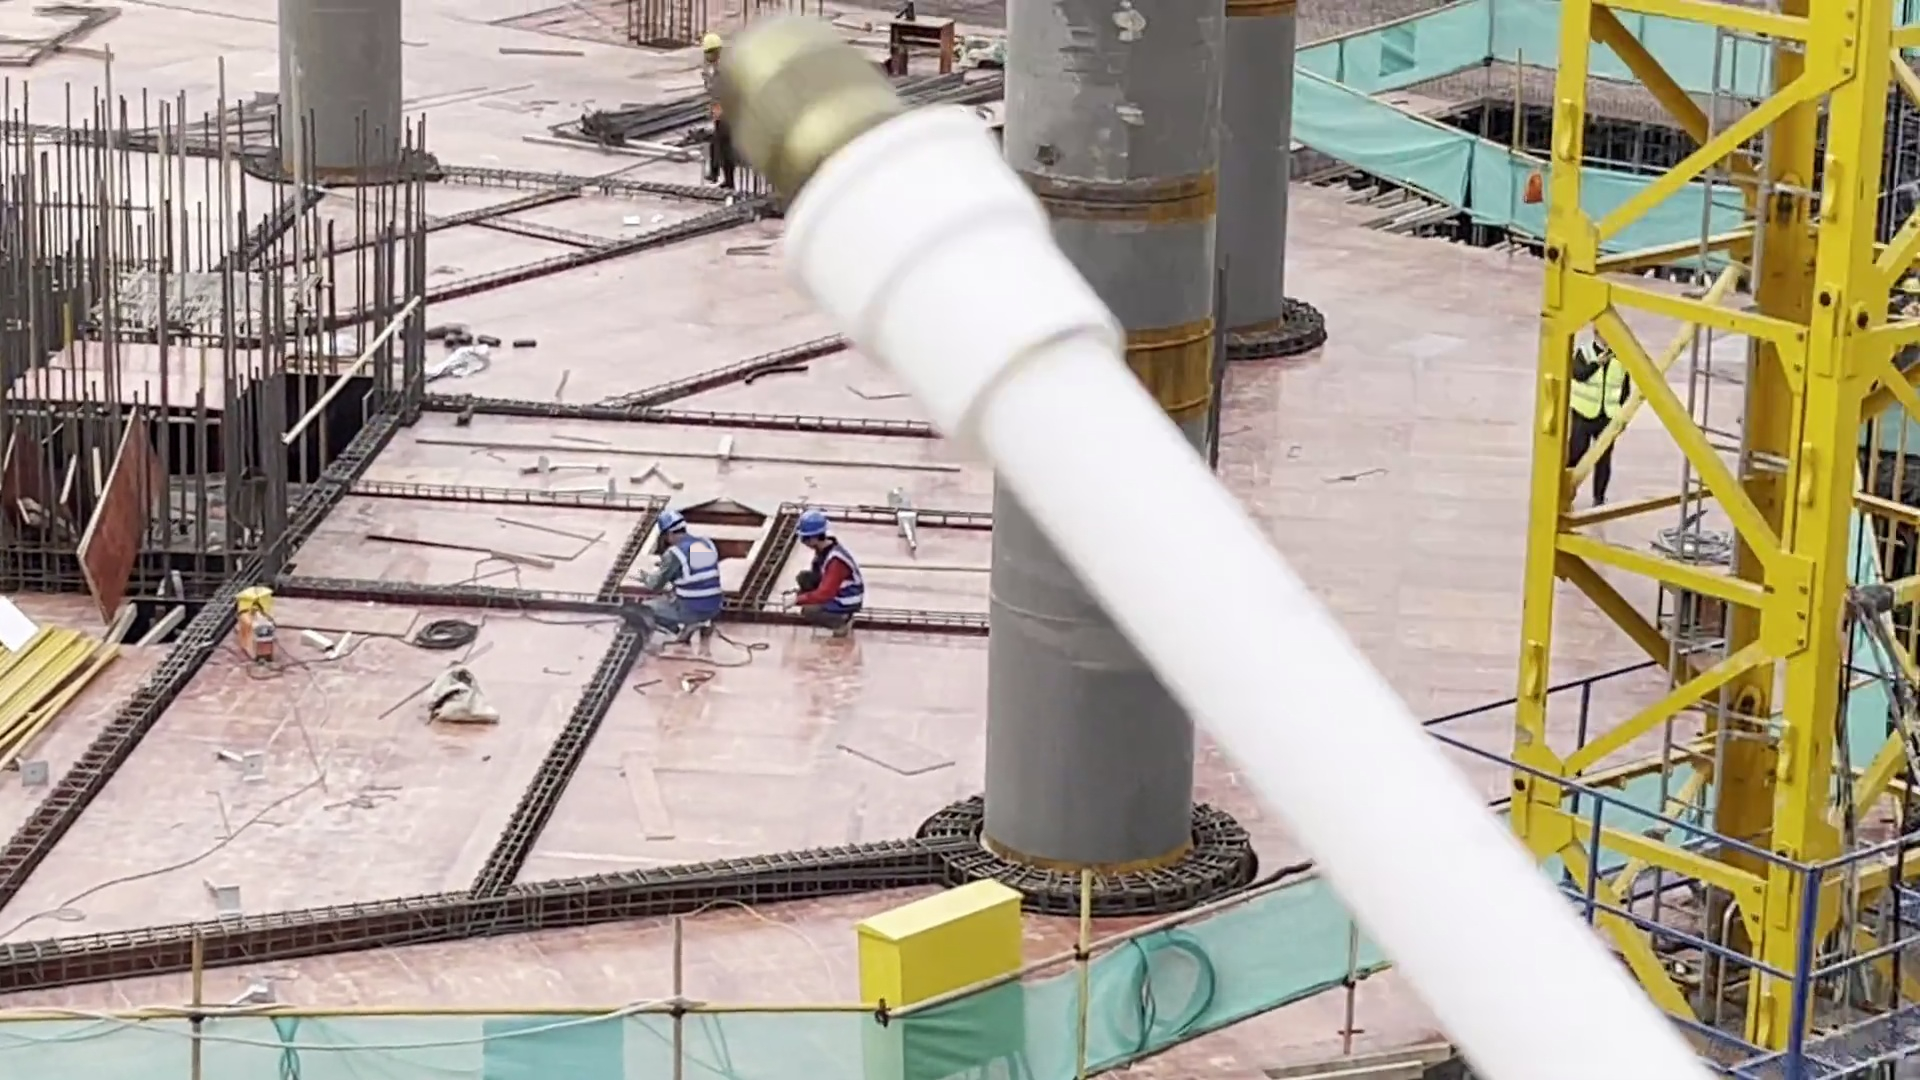helmet: (797, 508, 830, 538), (656, 509, 683, 534), (701, 30, 724, 52)
person: (618, 508, 733, 665), (786, 503, 871, 643), (1575, 325, 1629, 506), (698, 30, 738, 199)
vest: (658, 533, 725, 626), (817, 541, 866, 611)
